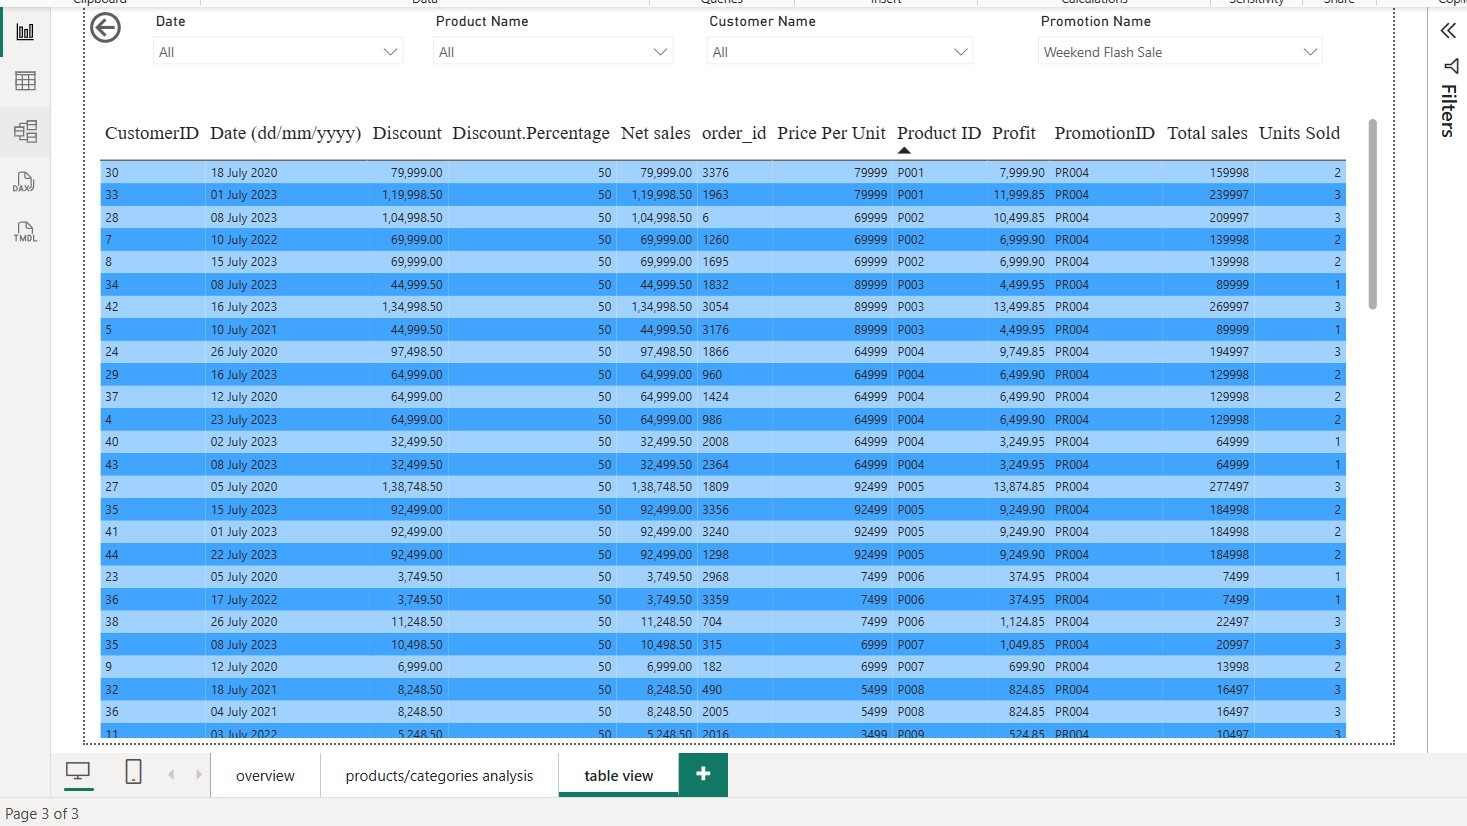

The dashboard page shown, as its layout file describes it:
{"tool":"powerbi","page":{"name":"table view","canvas":[1280,720],"ordinal":2},"visuals":[{"type":"actionButton","box":[0,0,100,40],"z":0},{"type":"slicer","fields":{"Values":["Table 1.Date"]},"box":[56.3,0,264.8,78.2],"z":1000},{"type":"tableEx","fields":{"Values":["Fact table.CustomerID","Fact table.Date (dd/mm/yyyy)","Fact table.Discount","Fact table.Discount.Percentage","Fact table.Net sales","Fact table.order_id","Fact table.Price Per Unit","Fact table.Product ID","Fact table.Profit","Fact table.PromotionID","Fact table.Total sales","Fact table.Units Sold"]},"box":[8.6,103.9,1260.7,616.3],"z":2000},{"type":"slicer","fields":{"Values":["Dim Product.Product Name"]},"box":[330.7,0,255.2,68.6],"z":3000},{"type":"slicer","fields":{"Values":["Dim Customers.Customer Name"]},"box":[598.3,0,281.3,83.7],"z":4000},{"type":"slicer","fields":{"Values":["Dim Promotion.Promotion Name"]},"box":[922.1,0,299.1,81],"z":5000}]}

Visuals, with their boxes on the page's 1280x720 design canvas (x1, y1, x2, y2). These are canvas units, not pixel positions in the 1467x826 screenshot, which may show the page scaled, cropped or inside an application window:
actionButton: Rect(0, 0, 100, 40)
slicer - Table 1.Date: Rect(56, 0, 321, 78)
tableEx - Fact table.CustomerID x Fact table.Date (dd/mm/yyyy): Rect(9, 104, 1269, 720)
slicer - Dim Product.Product Name: Rect(331, 0, 586, 69)
slicer - Dim Customers.Customer Name: Rect(598, 0, 880, 84)
slicer - Dim Promotion.Promotion Name: Rect(922, 0, 1221, 81)
